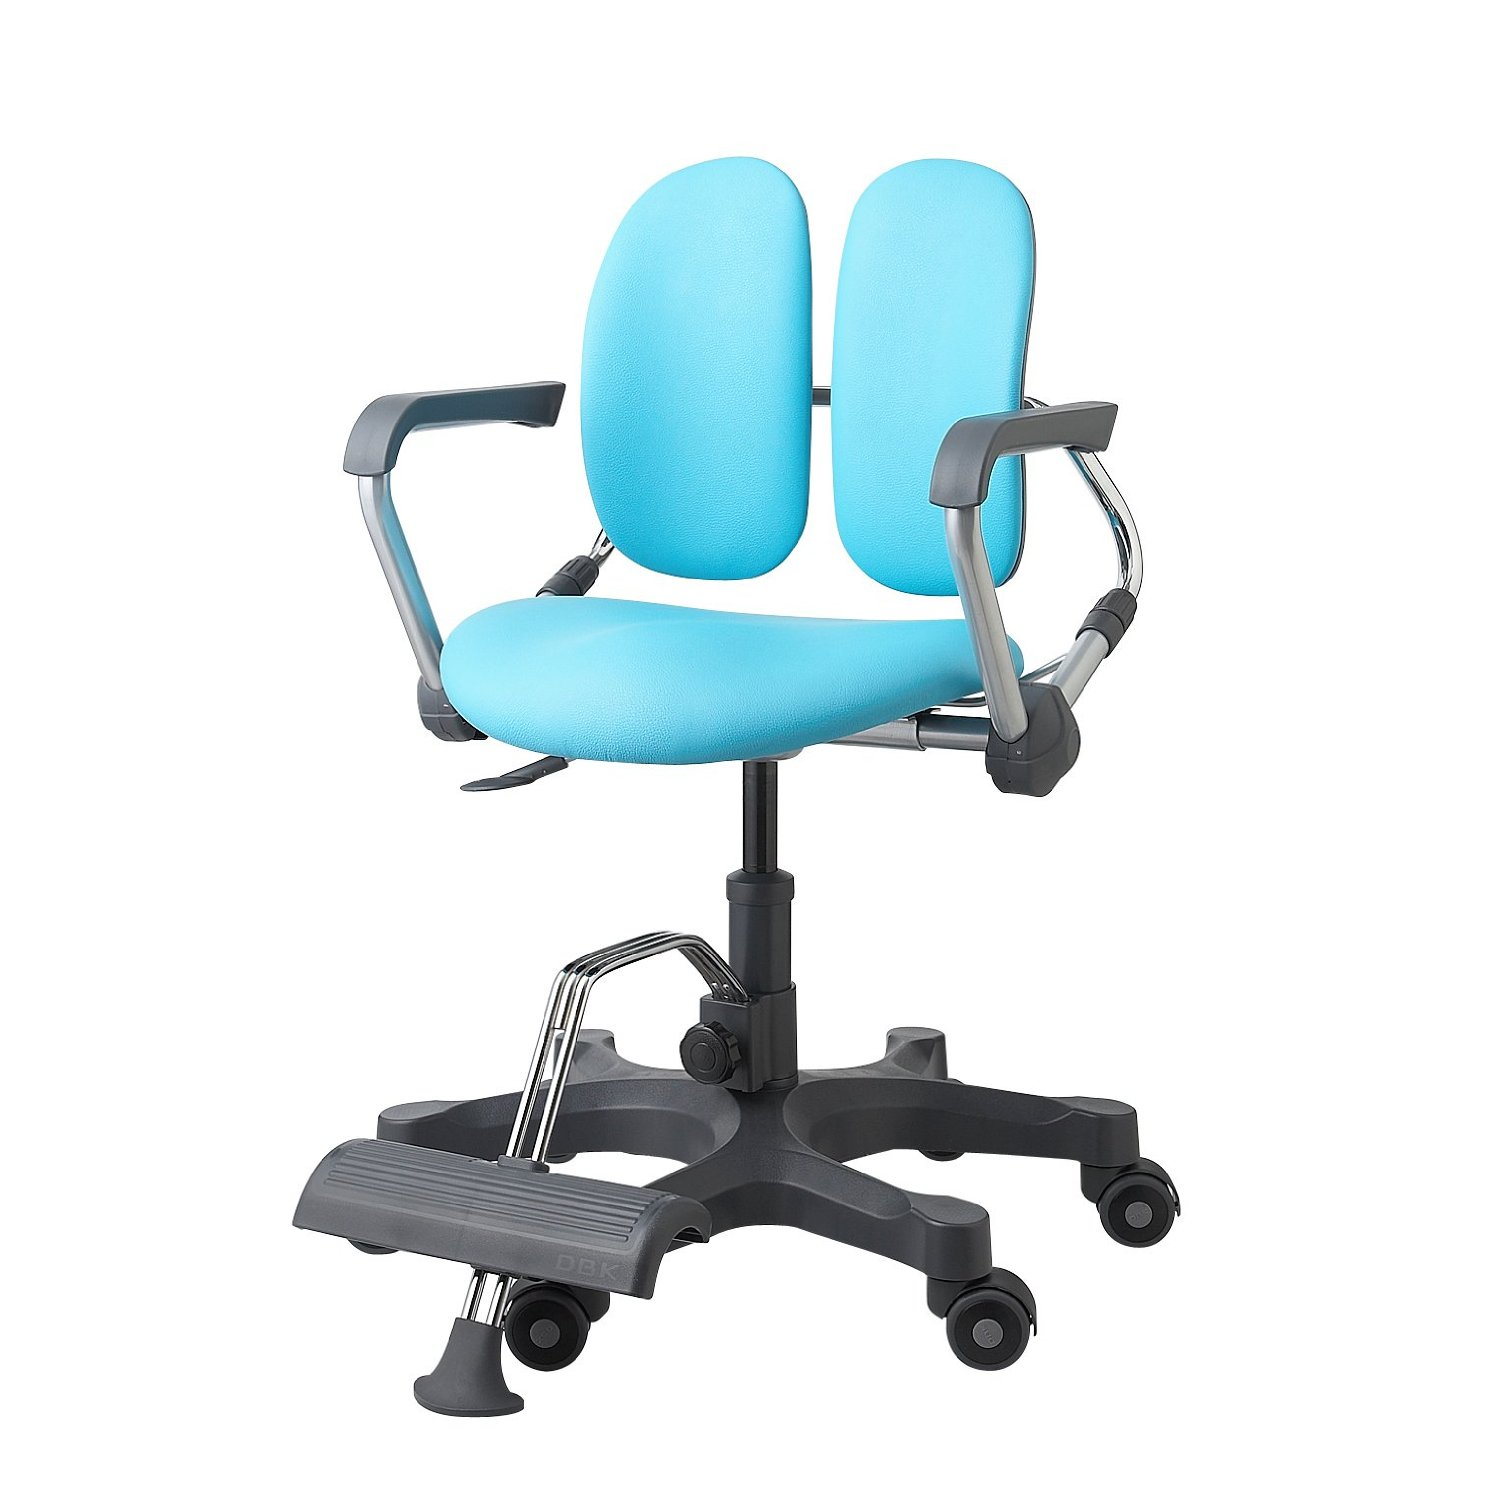chairs: (283, 154, 1180, 1423)
